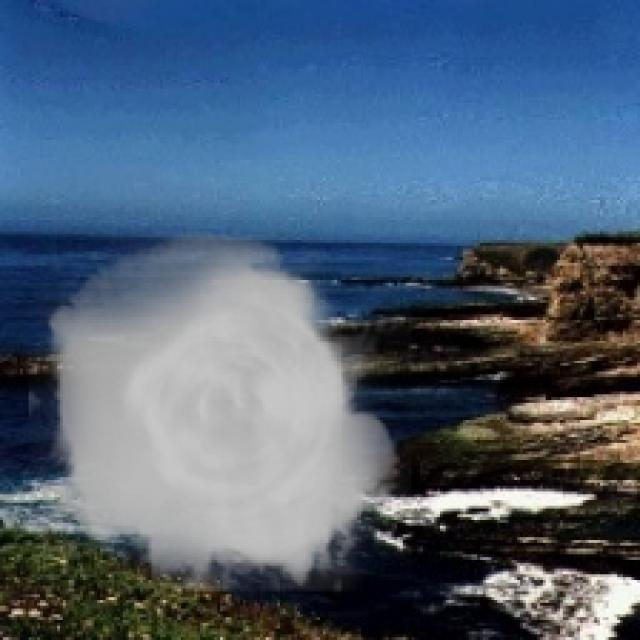Smoke: (29, 232, 412, 592)
